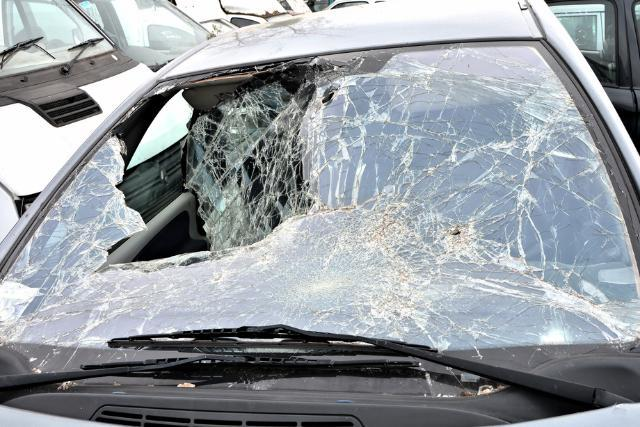Windshield: (28, 87, 602, 366)
